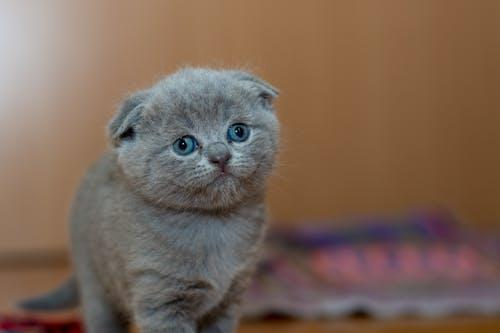kedo: (76, 68, 277, 333)
